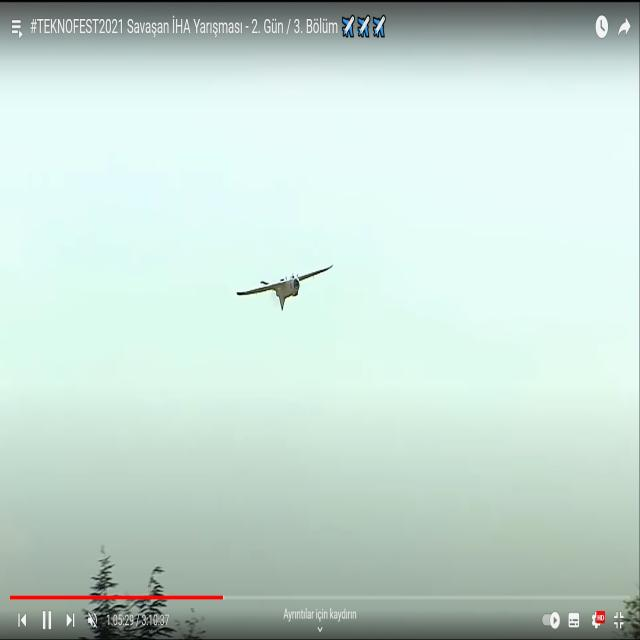iha: (268, 264, 303, 311)
